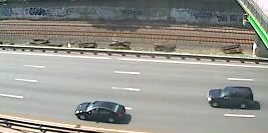car: (73, 98, 130, 125), (206, 85, 256, 110)
